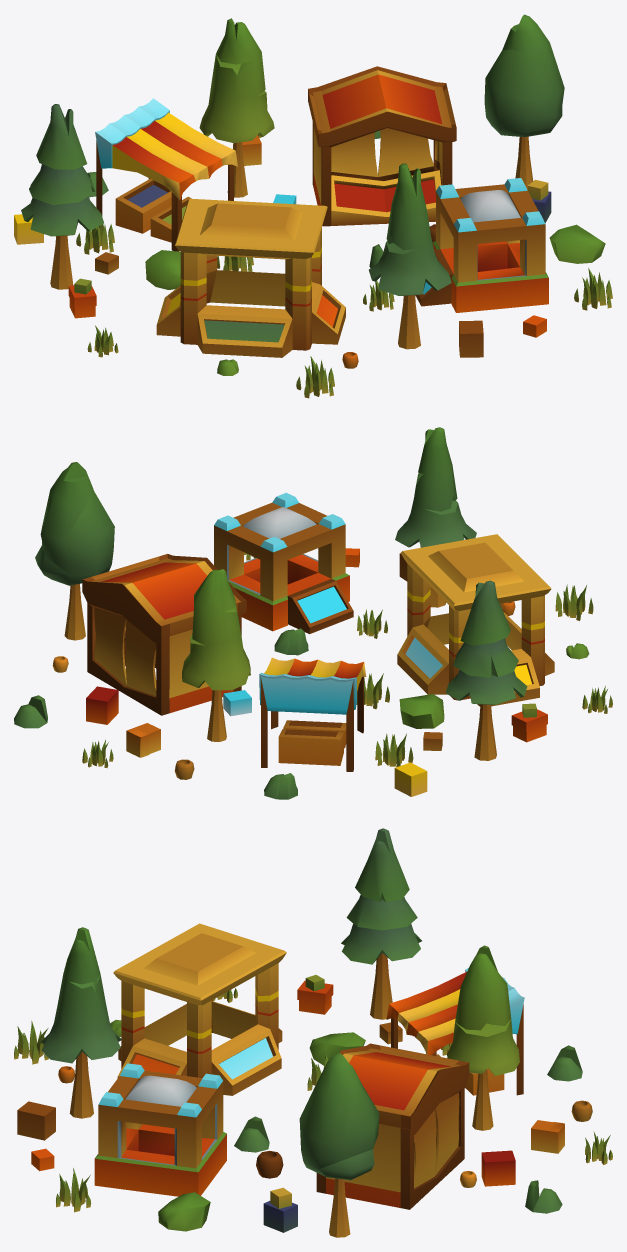
File: SM_Market01_F.fbx
3 renders of one model, top to bottom at view 1: azimuth 30°, elevation 25°; view 2: azimuth 150°, elevation 25°; view 3: azimuth 270°, elevation 25°, orthographic. The views are drawn at different scales.
Visible parts, largest first — view 1: Tree02.004; view 2: Tree02.004; view 3: Tree02.004.
Part boxes in pixels (x1=…): Tree02.004: x1=14, y1=14, x2=612, y2=398; Tree02.004: x1=14, y1=427, x2=612, y2=799; Tree02.004: x1=14, y1=828, x2=612, y2=1237.
Bounding box in the file's own units: 618 × 206 × 601.
